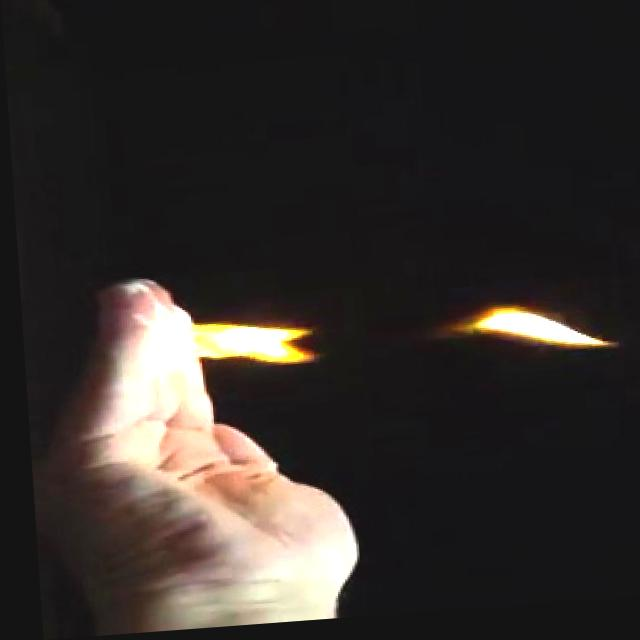Fire: (140, 311, 321, 382), (446, 305, 604, 366)
